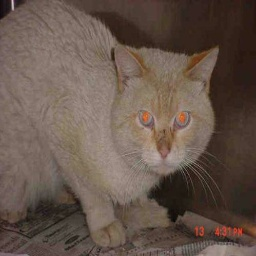cat: (2, 4, 211, 254)
